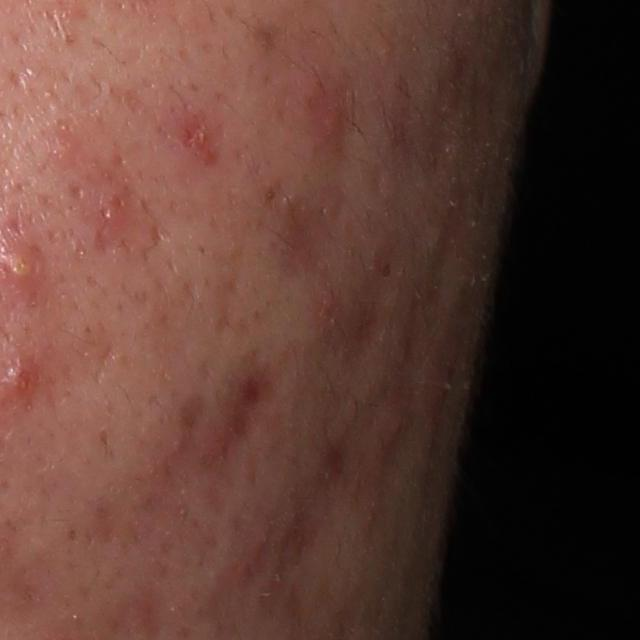atrophic_scar: (203, 351, 292, 510), (278, 424, 353, 598)
papule: (80, 166, 145, 242), (315, 95, 354, 138)
pustule: (4, 237, 51, 286)
